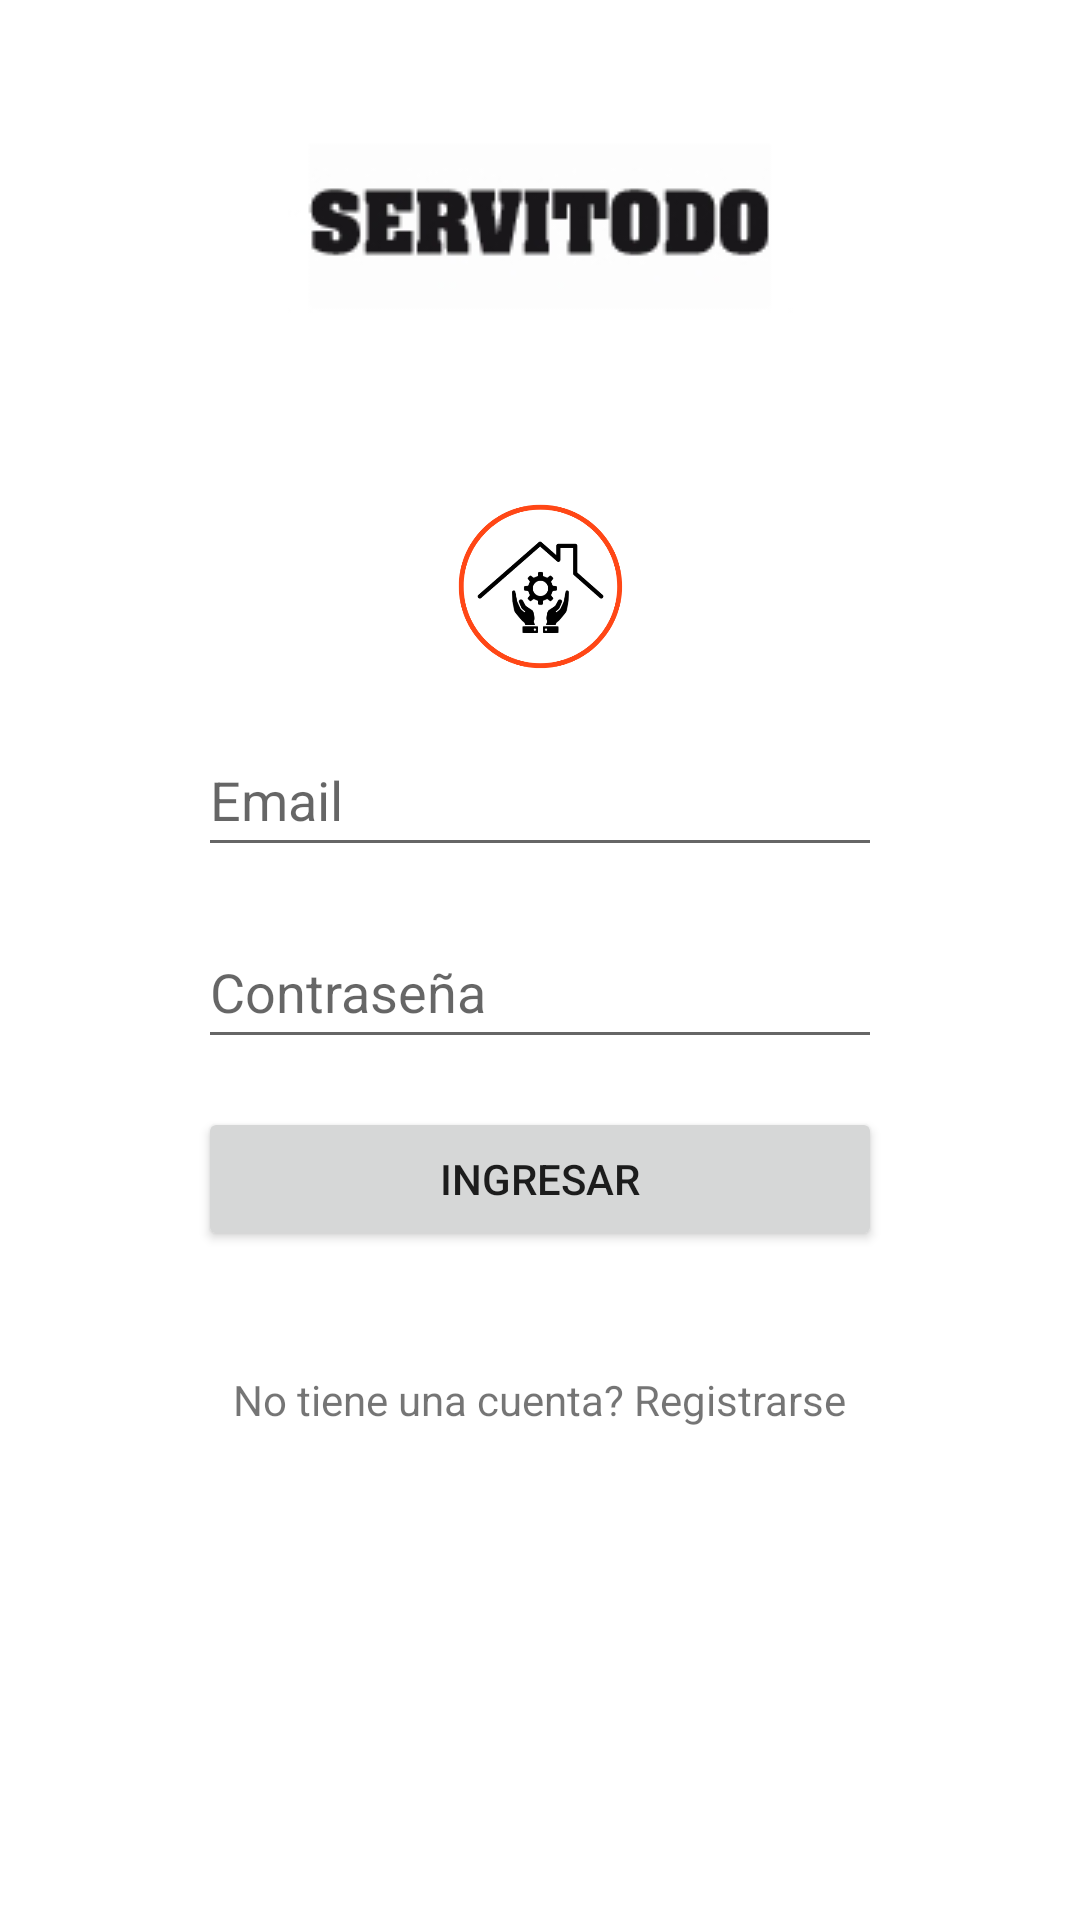

Named icons in this screenshot (1080*1920) and their bounding boxes, (left=x1, top=y1, right=x2, bottom=y2):
servitodo: (left=458, top=504, right=622, bottom=668)
